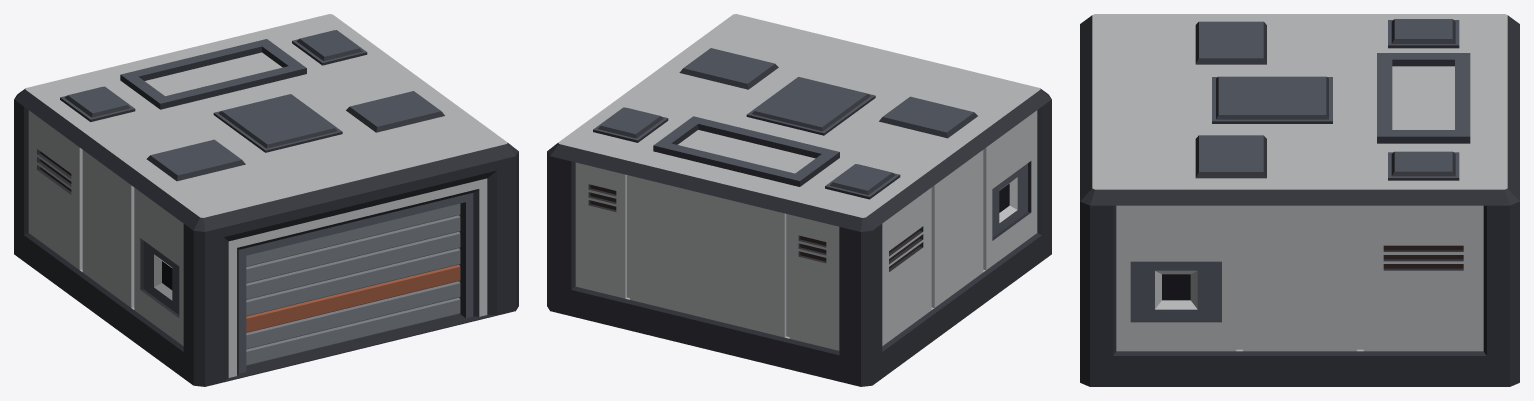
Rendered from rover-garage-273fb1.glb.
3 views of the same model, side by side, from view 1: azimuth 30°, elevation 25°; view 2: azimuth 150°, elevation 25°; view 3: azimuth 270°, elevation 25° (orthographic). The views are drawn at different scales.
Visible parts, largest first — view 1: hull, door; view 2: hull; view 3: hull.
Boxes of the visible parts, <box> form: hull: <box>14,14,518,386</box>; door: <box>246,203,460,365</box>; hull: <box>547,14,1051,386</box>; hull: <box>1080,14,1519,386</box>.
Bounding box in the file's own units: 8 × 4 × 8.
